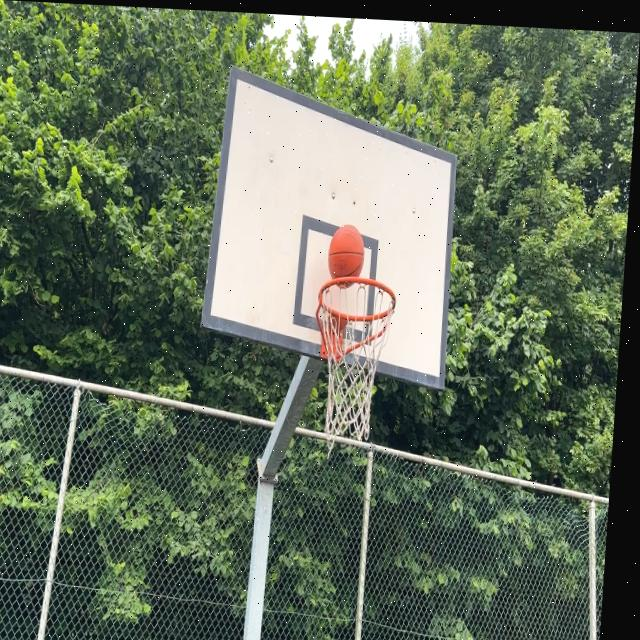rebound_hit: (325, 225, 366, 292)
